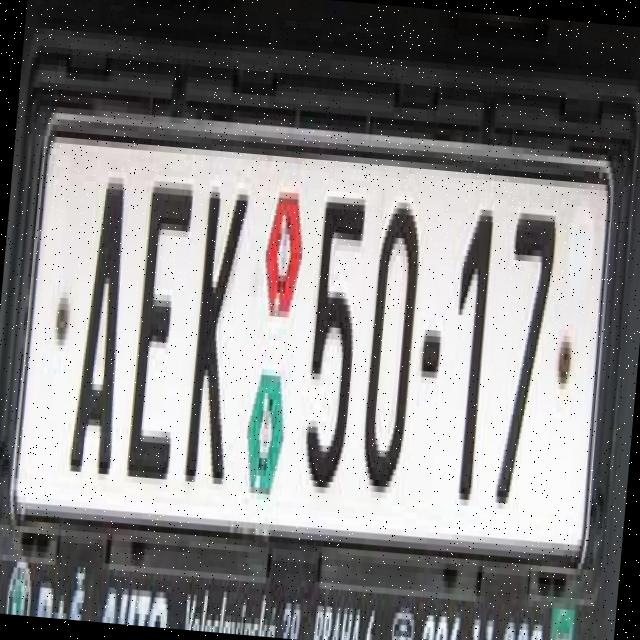Autre: (4, 127, 612, 560)
